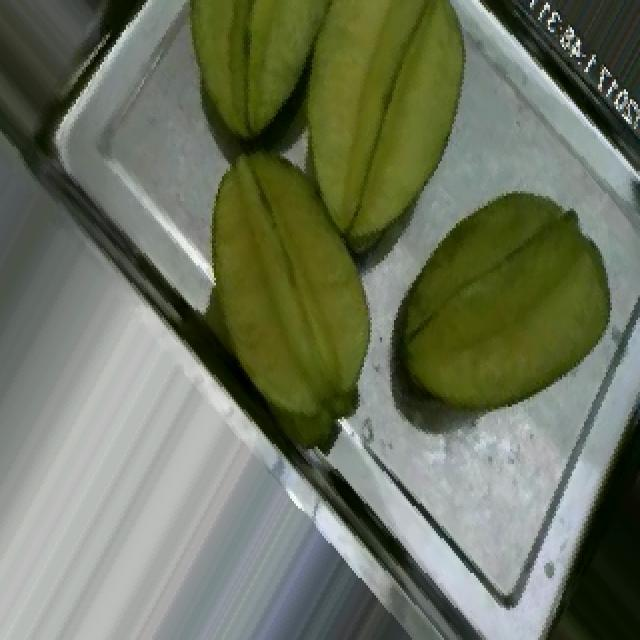fruit: (160, 109, 434, 479), (192, 0, 532, 285), (370, 156, 640, 459)
